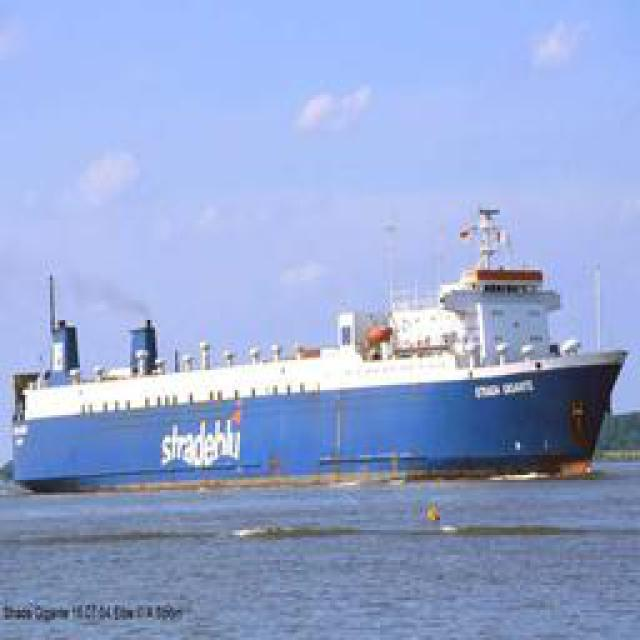Ship: (24, 198, 619, 486)
